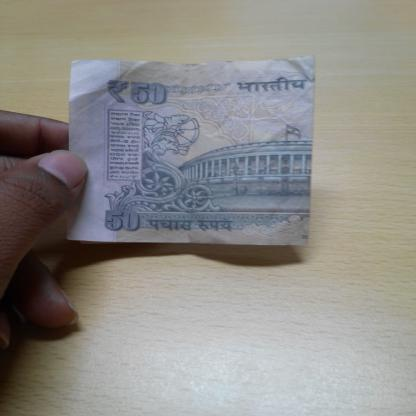Old50Back: (68, 55, 315, 246)
